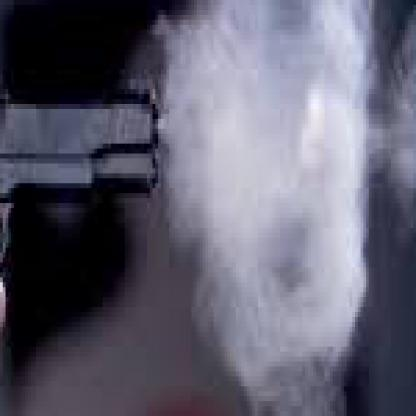gun: (42, 0, 413, 411)
